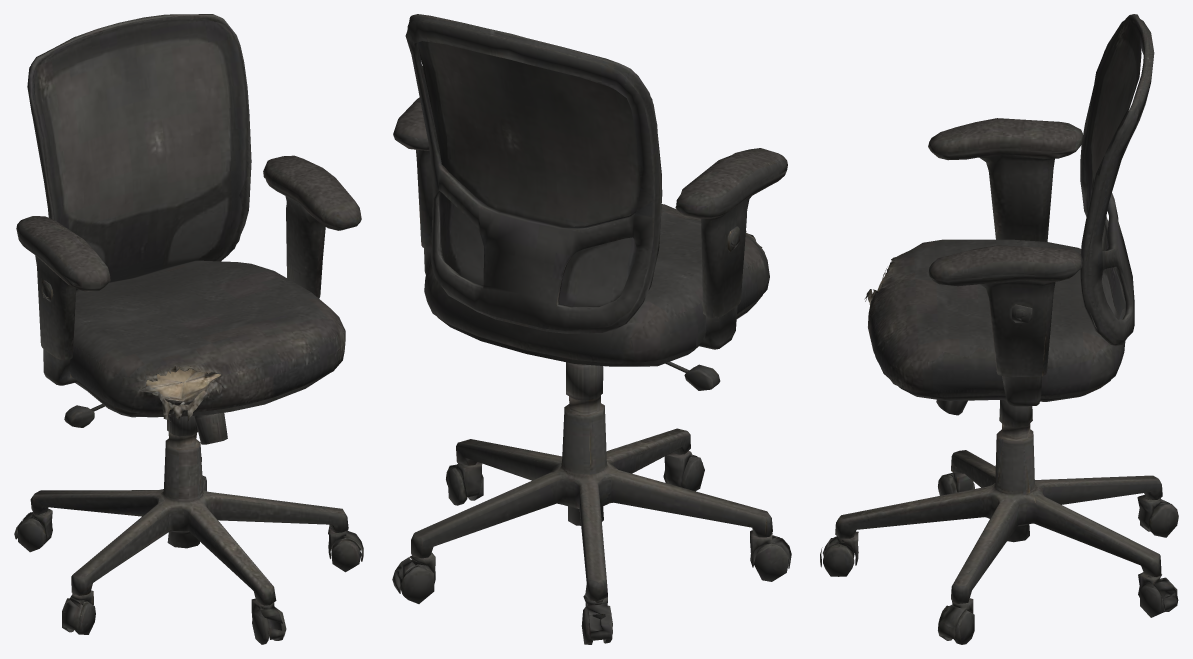
The model's file is p7-office-swivel-chair-t25.glb.
3 renders of one model, left to right at view 1: azimuth 30°, elevation 25°; view 2: azimuth 150°, elevation 25°; view 3: azimuth 270°, elevation 25°, orthographic. The views are drawn at different scales.
Parts seen in each view (by area): view 1: p7-office-swivel-chair-t25; view 2: p7-office-swivel-chair-t25; view 3: p7-office-swivel-chair-t25.
Part boxes in pixels (left/top/right/bottom): p7-office-swivel-chair-t25: left=14, top=14, right=363, bottom=644; p7-office-swivel-chair-t25: left=392, top=14, right=791, bottom=644; p7-office-swivel-chair-t25: left=820, top=14, right=1178, bottom=644.
Bounding box in the file's own units: 0.65 × 1.05 × 0.65.
Materials: 1 (1 with a texture image).
